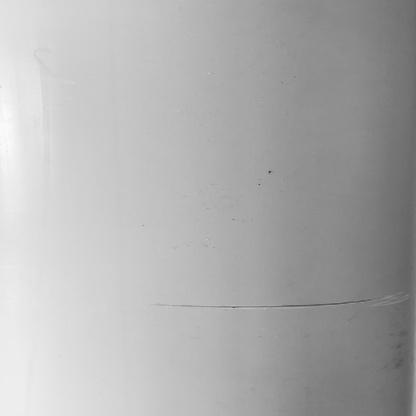sunshang: (148, 297, 402, 313)
